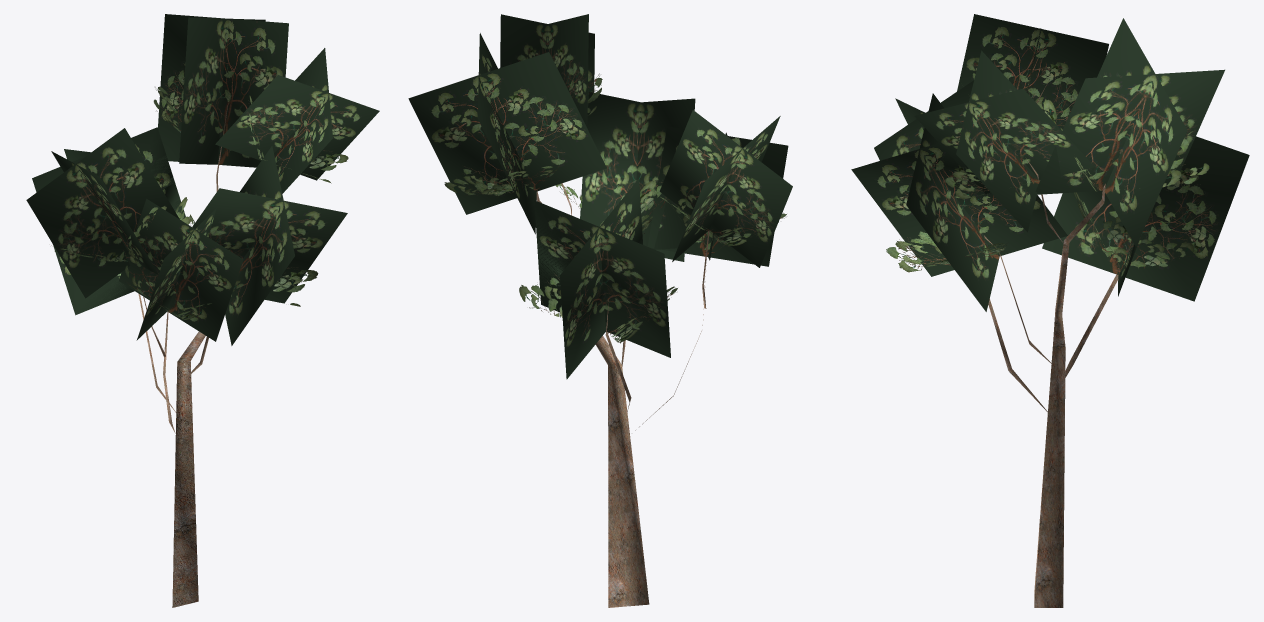
The model's file is decd_ginkgotreeleaves_a2_l1.fbx.
The picture shows the model from 3 angles, left to right: view 1: azimuth 30°, elevation 25°; view 2: azimuth 150°, elevation 25°; view 3: azimuth 270°, elevation 25°; orthographic projection. The views are drawn at different scales.
Parts seen in each view (by area): view 1: mesh_node; view 2: mesh_node; view 3: mesh_node.
Boxes of the visible parts, x1,y1,x2,y2 form: mesh_node: [26, 14, 379, 607]; mesh_node: [408, 14, 792, 607]; mesh_node: [851, 14, 1249, 607].
Size of the model in its own units: 1.95 by 3.1 by 1.85.
